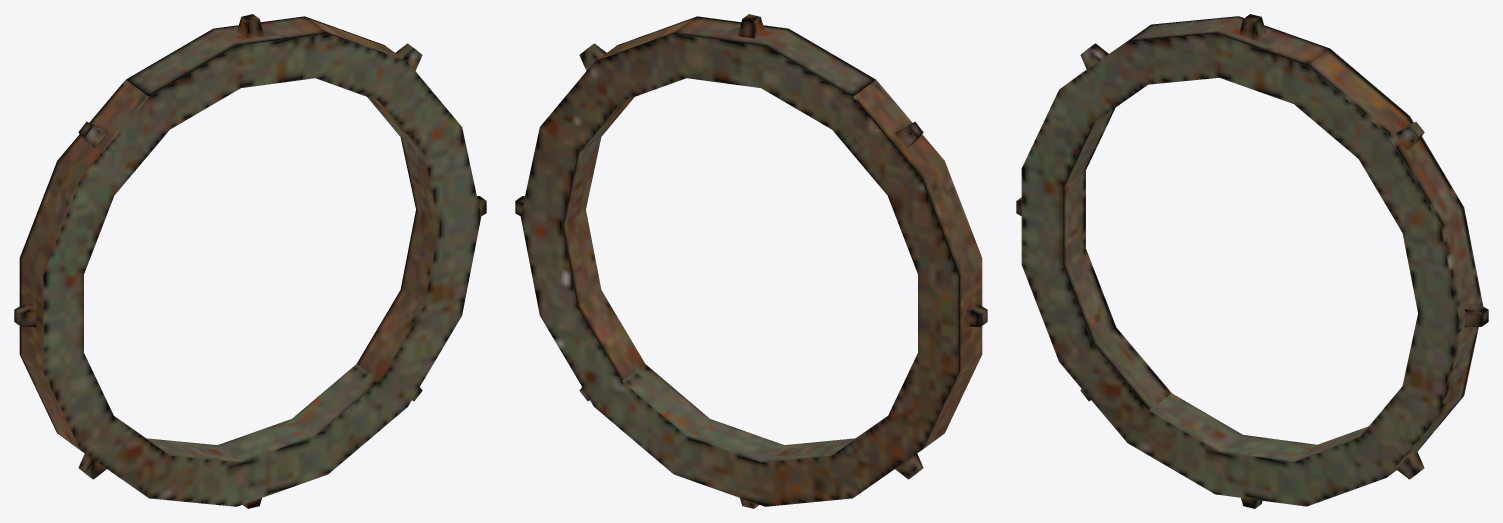
The model's file is Pipe_Set_3_3.glb.
The picture shows the model from 3 angles, left to right: view 1: azimuth 30°, elevation 25°; view 2: azimuth 150°, elevation 25°; view 3: azimuth 330°, elevation 25°; orthographic projection.
Parts seen in each view (by area): view 1: Pipe_Set_3_3; view 2: Pipe_Set_3_3; view 3: Pipe_Set_3_3.
Boxes of the visible parts, x1,y1,x2,y2 form: Pipe_Set_3_3: (14, 14, 486, 508); Pipe_Set_3_3: (515, 14, 987, 508); Pipe_Set_3_3: (1016, 14, 1488, 508).
Bounding box in the file's own units: 0.2854 × 0.2854 × 0.025.
Materials: 1 (1 with a texture image).
